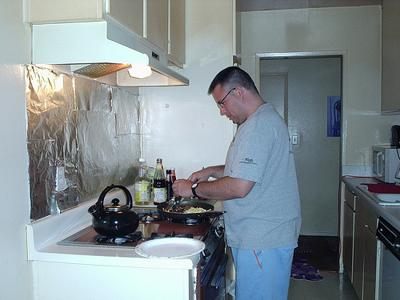person: (172, 68, 304, 300)
